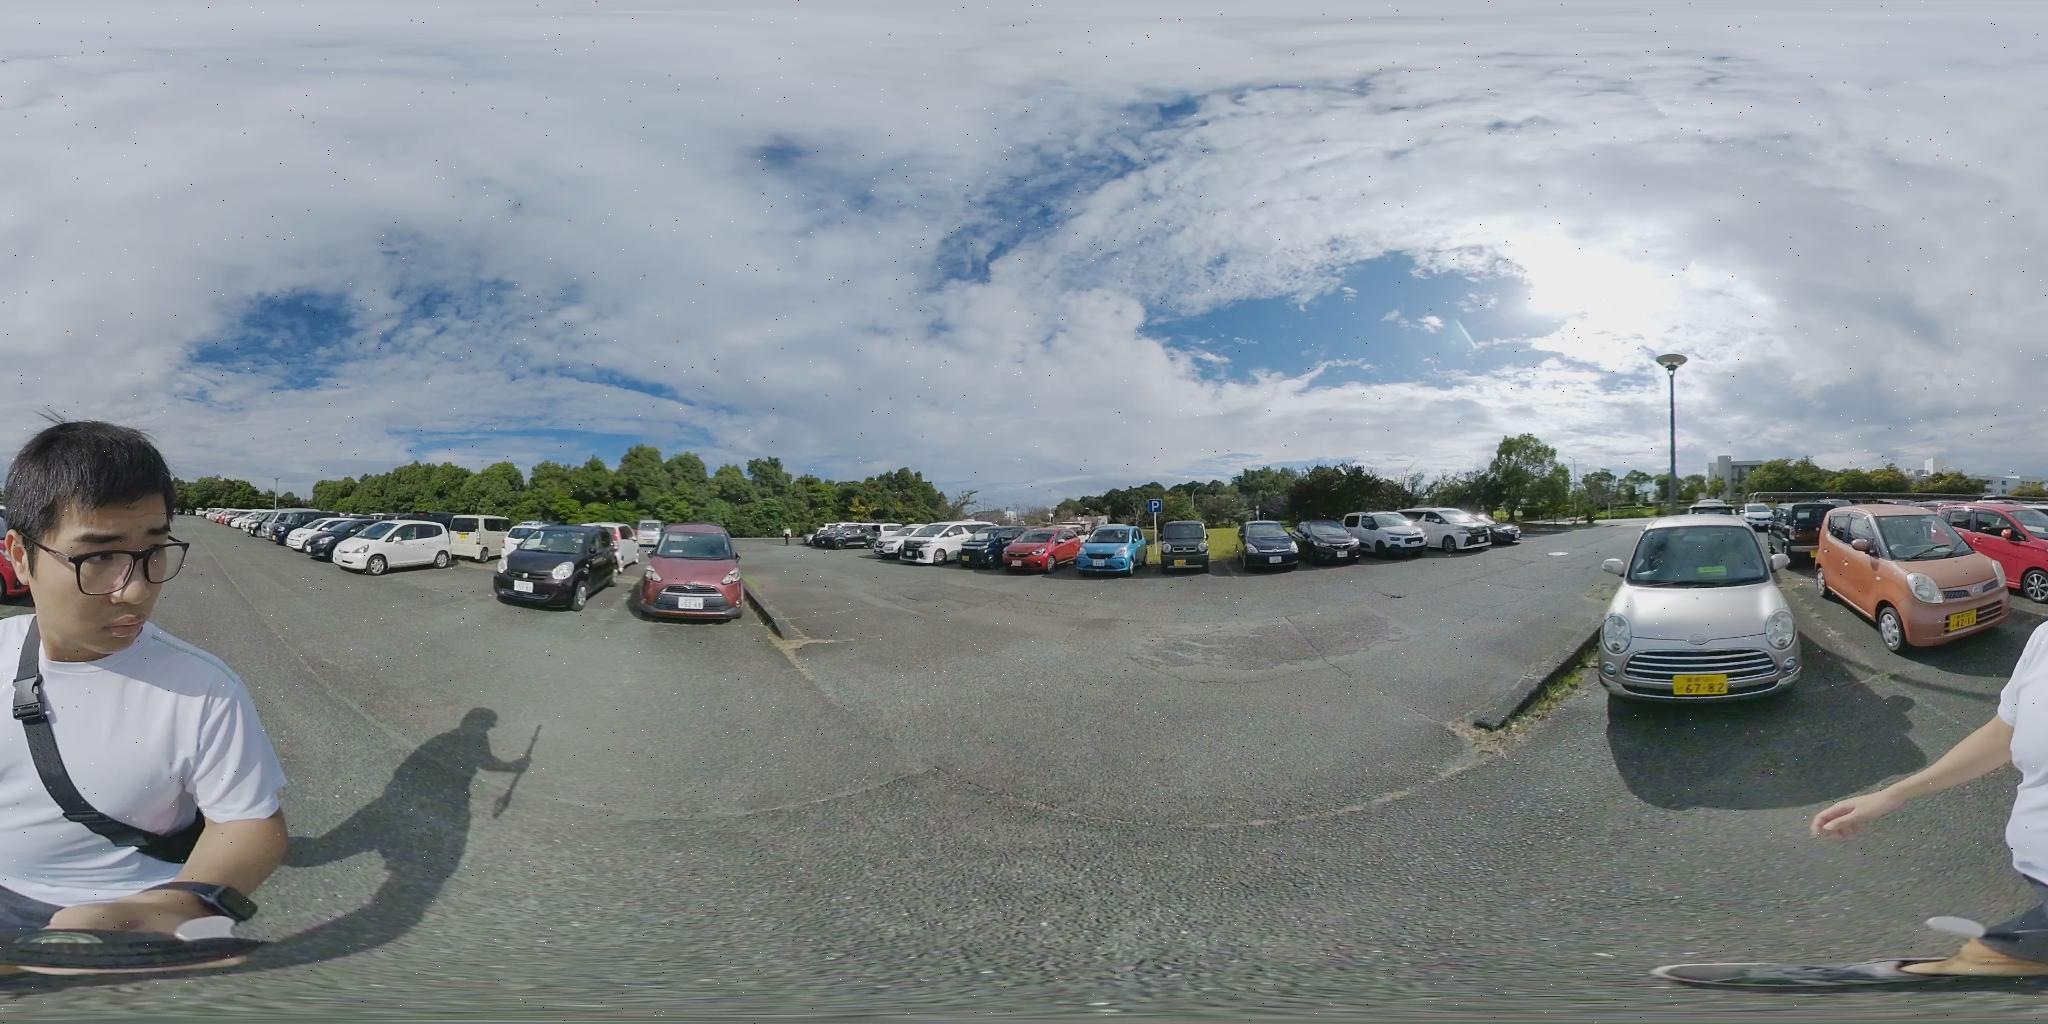car: (1600, 519, 1805, 699), (1819, 508, 2027, 649), (641, 522, 743, 630), (1934, 503, 2045, 601), (495, 524, 609, 614), (336, 519, 460, 573), (1394, 509, 1516, 552), (892, 522, 997, 563), (1344, 512, 1432, 556), (997, 530, 1081, 573), (1078, 525, 1147, 573), (1241, 517, 1305, 568), (1296, 524, 1362, 567), (281, 517, 355, 555), (1159, 517, 1209, 568), (1776, 499, 1843, 536), (266, 515, 330, 547), (808, 521, 883, 549), (242, 513, 304, 542), (1686, 502, 1729, 516)
